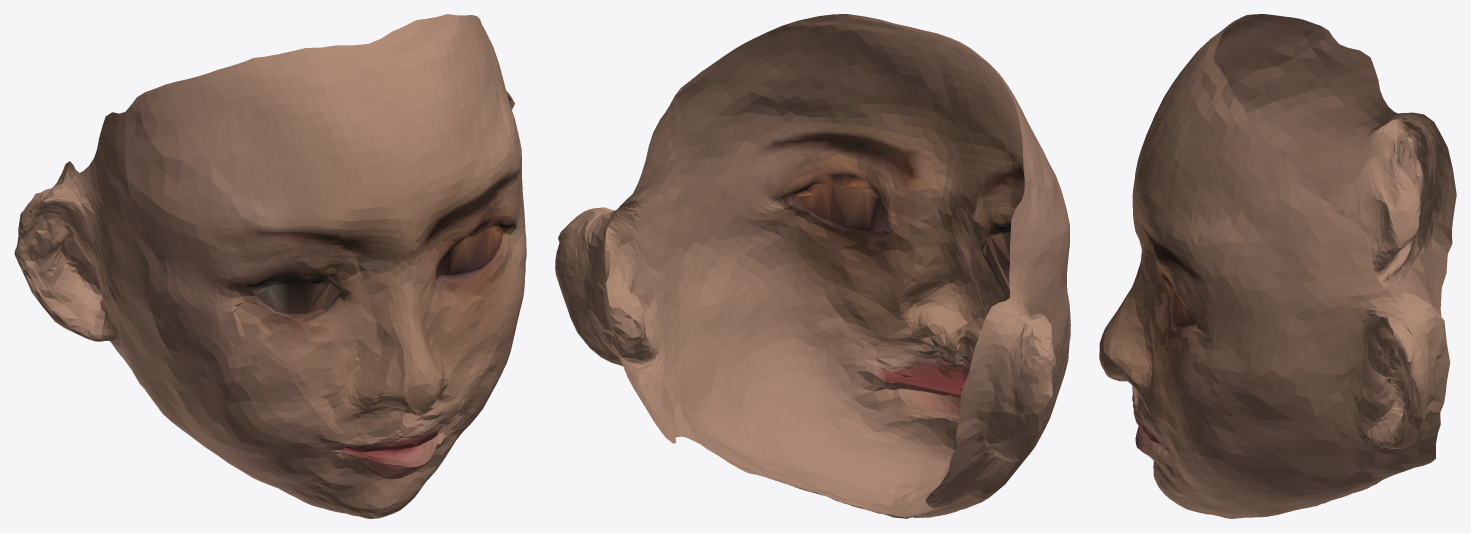
The model's file is seed0010.obj.
3 views of the same model, side by side, from view 1: azimuth 30°, elevation 25°; view 2: azimuth 150°, elevation 25°; view 3: azimuth 270°, elevation 25° (orthographic). The views are drawn at different scales.
Bounding box in the file's own units: 224 × 204 × 145.
